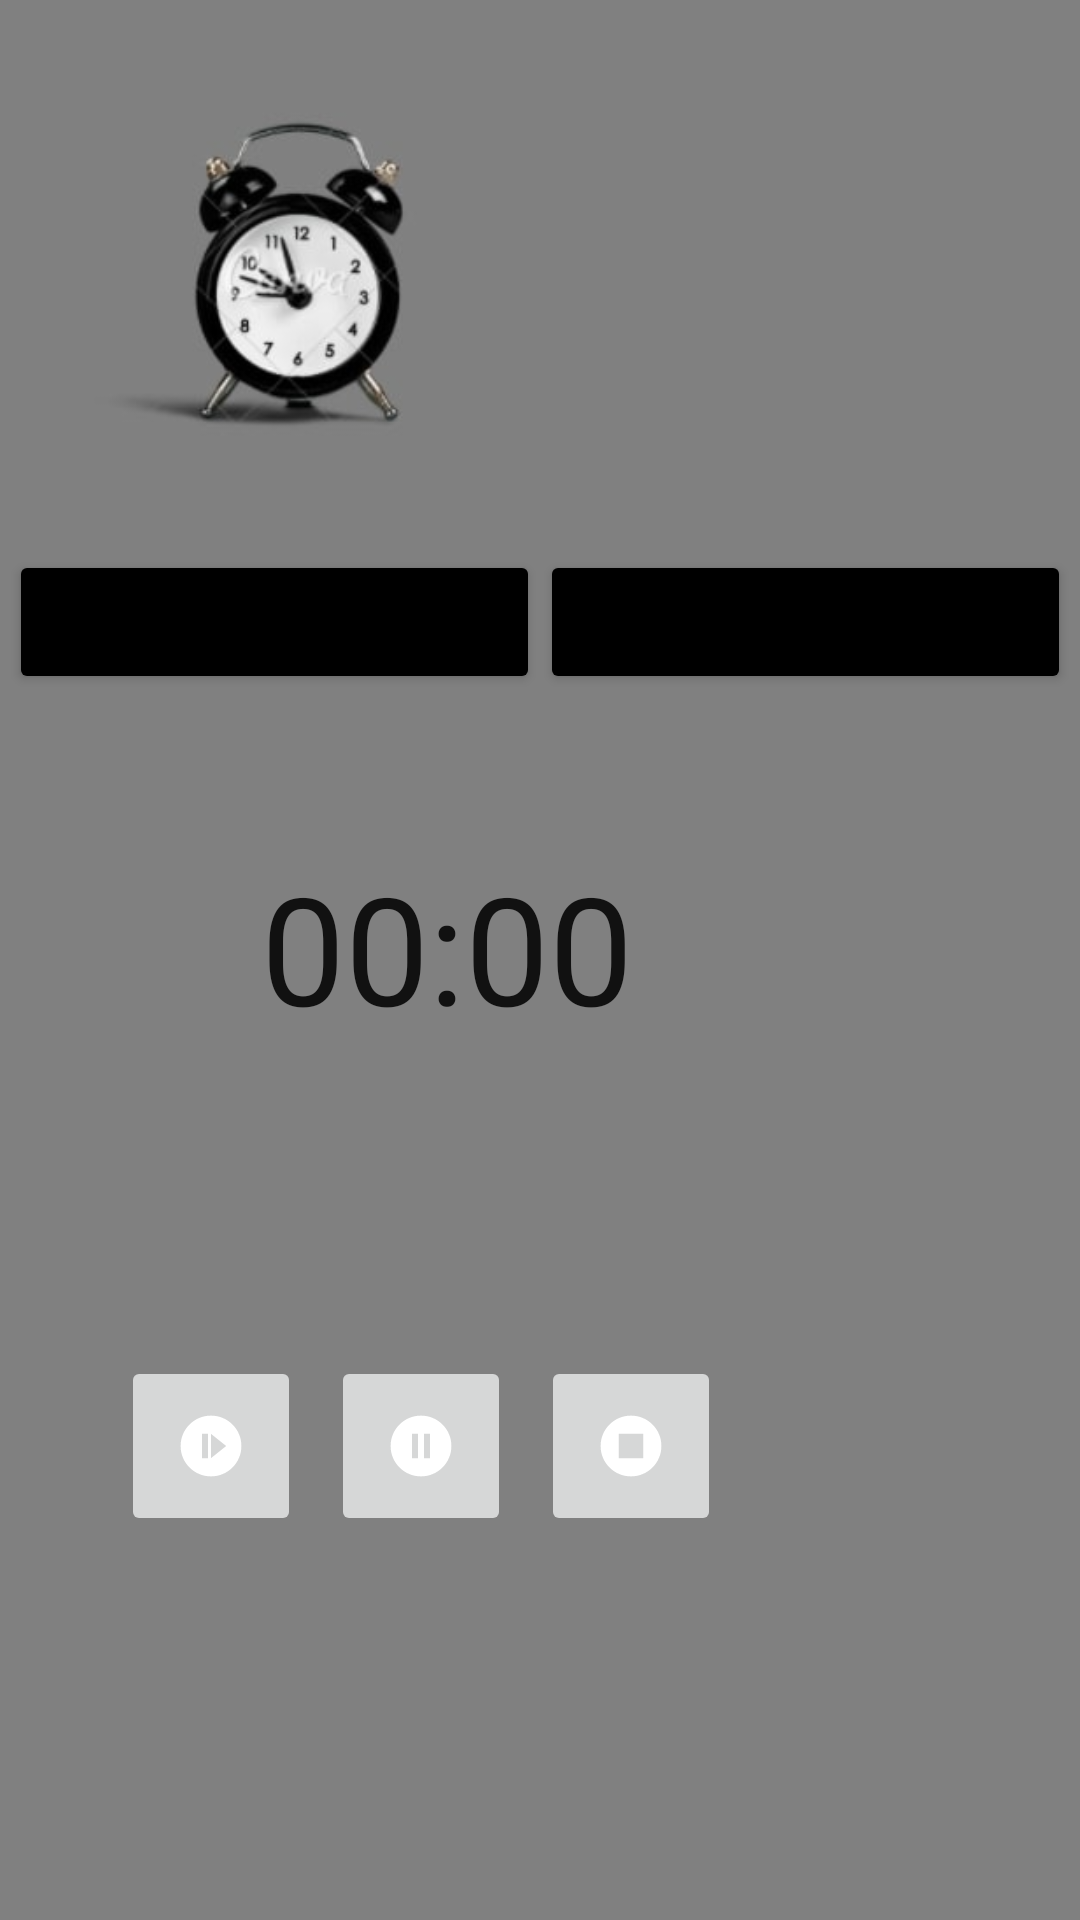

Named icons in this screenshot (1080×1920) and their centers, point (x, y):
pause: point (421, 1446)
start: point (211, 1446)
stop: point (631, 1446)
